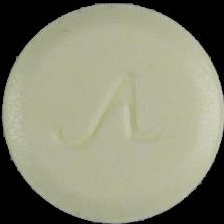54868-3854: (0, 0, 224, 224)
